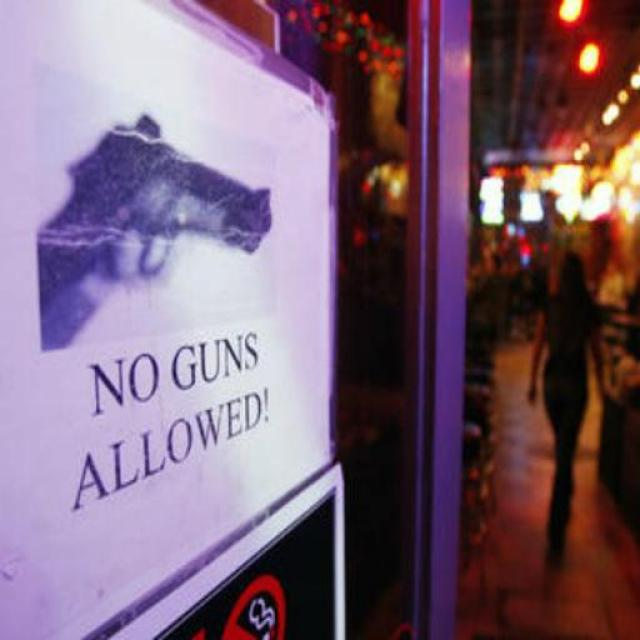pistol: (33, 108, 269, 316)
